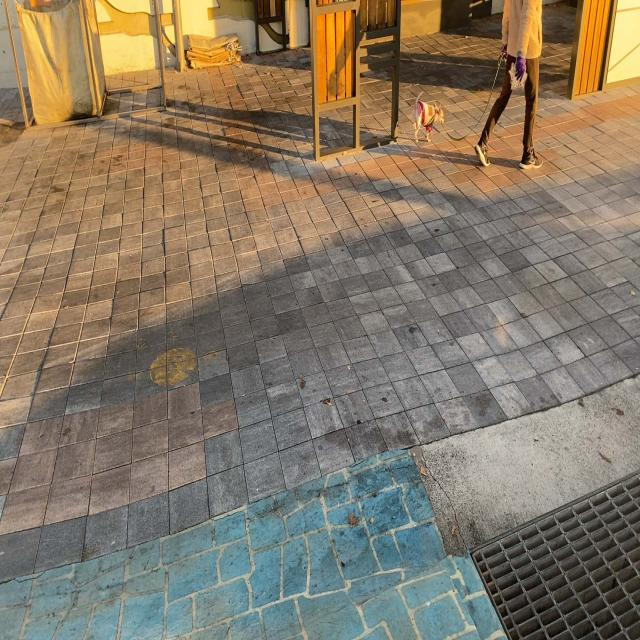Leashed_Dog: (413, 45, 518, 144)
